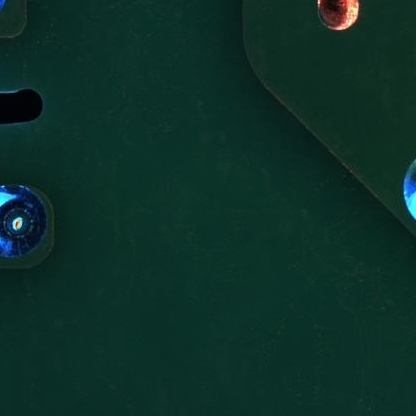spot: (1, 184, 48, 262)
